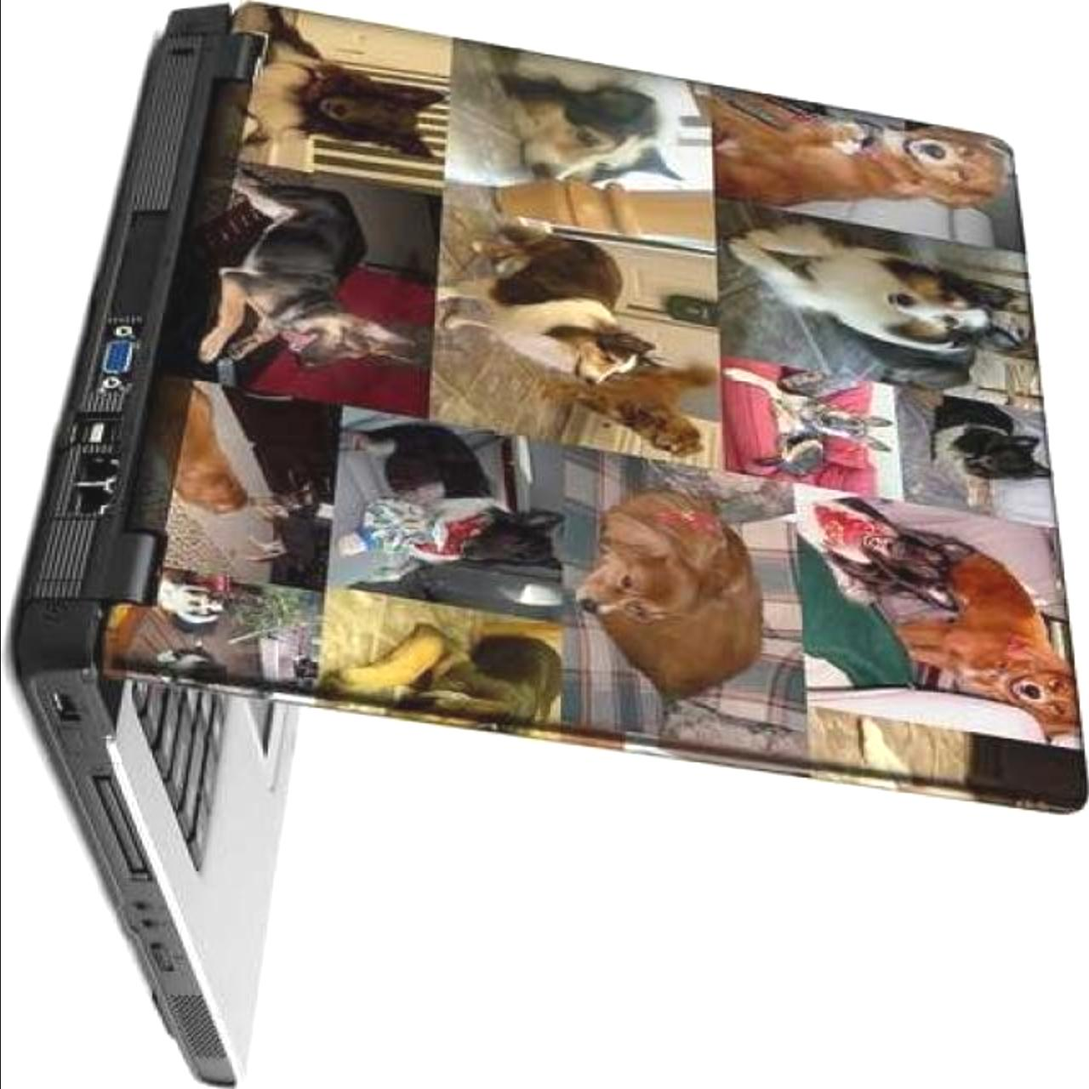laptop: (153, 68, 1007, 956)
